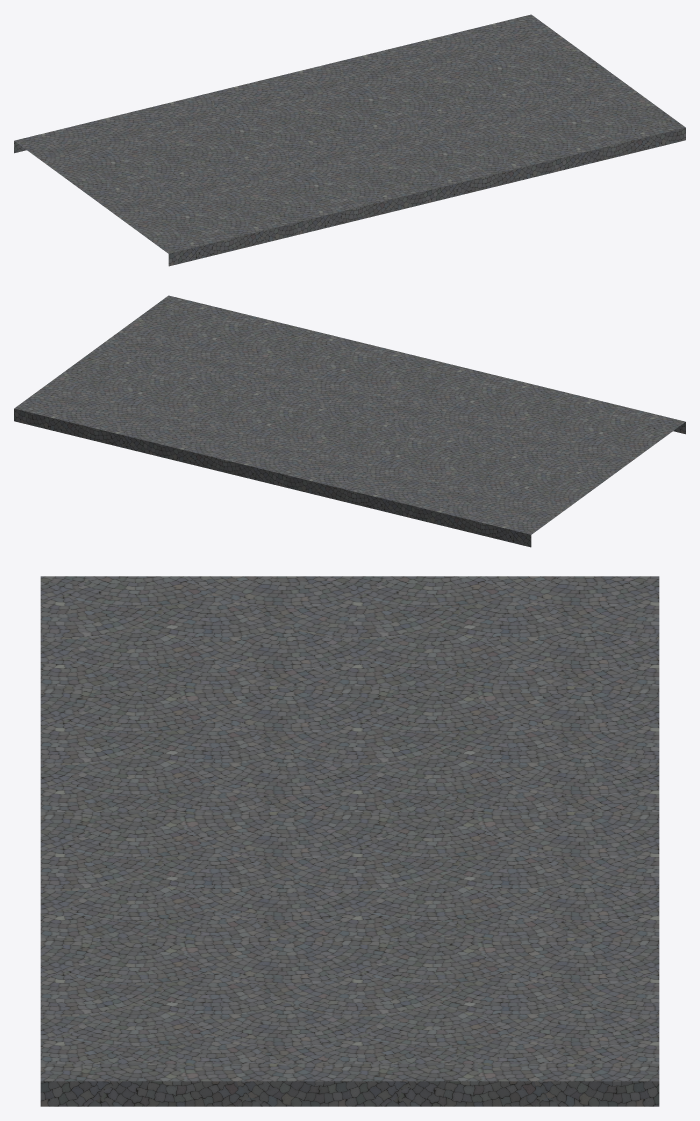
File: SM_Pav_FasciaPalme_Testa.fbx
3 views of the same model, one above another, from view 1: azimuth 30°, elevation 25°; view 2: azimuth 150°, elevation 25°; view 3: azimuth 270°, elevation 25° (orthographic). The views are drawn at different scales.
Visible parts, largest first — view 1: SM_Pav_FasciaPalme_Testa; view 2: SM_Pav_FasciaPalme_Testa; view 3: SM_Pav_FasciaPalme_Testa.
Boxes of the visible parts, x1,y1,x2,y2 form: SM_Pav_FasciaPalme_Testa: (14,14,685,266); SM_Pav_FasciaPalme_Testa: (14,295,685,547); SM_Pav_FasciaPalme_Testa: (40,576,659,1106).
Size of what is drawn, in the model's own units: 1285 by 665 by 30.
Materials: 1 (1 with a texture image).
